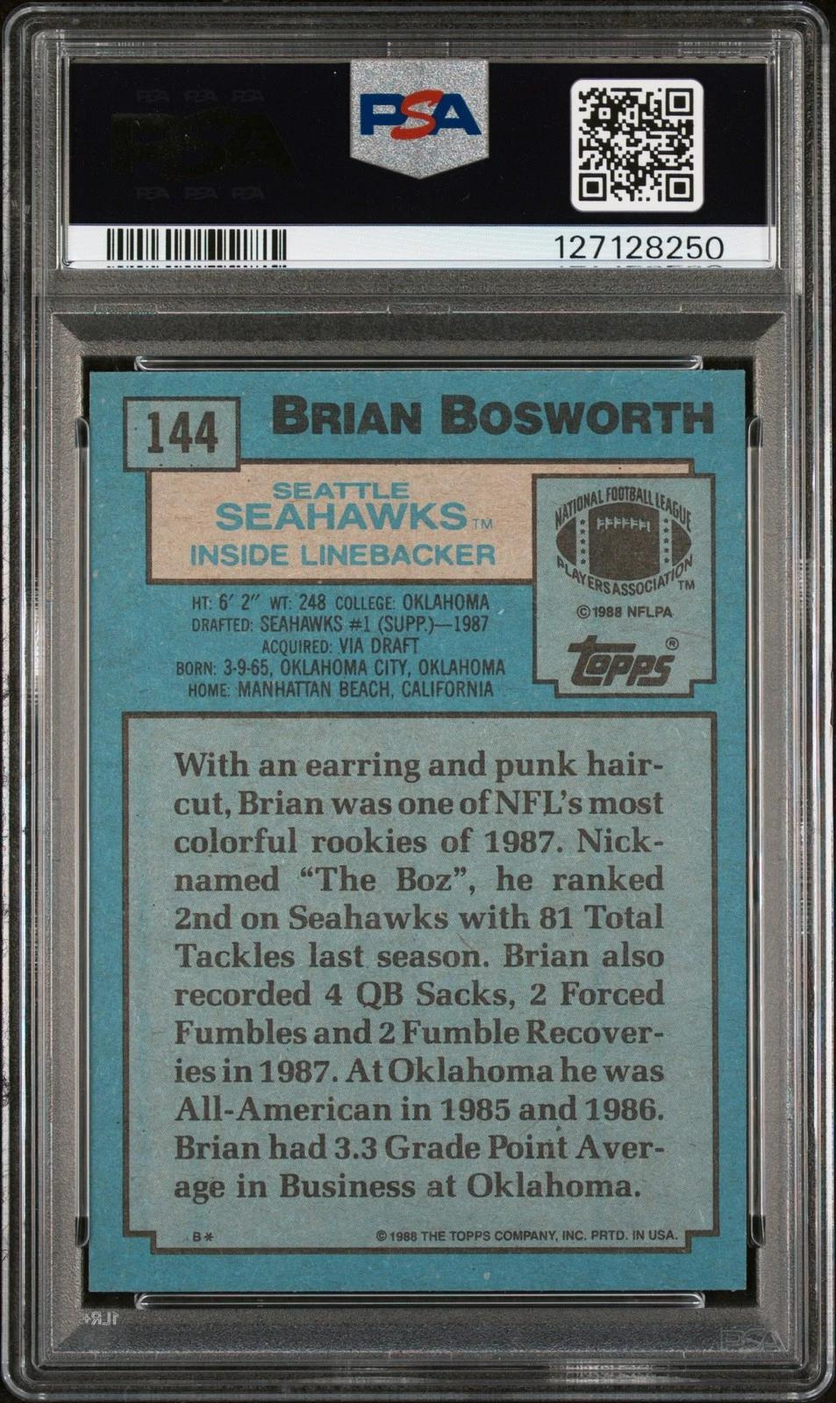card-2UtV: (88, 368, 747, 1293)
